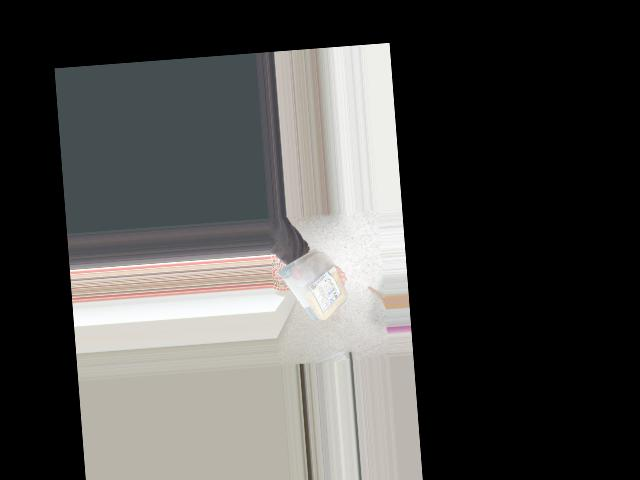cheese: (272, 243, 355, 328)
